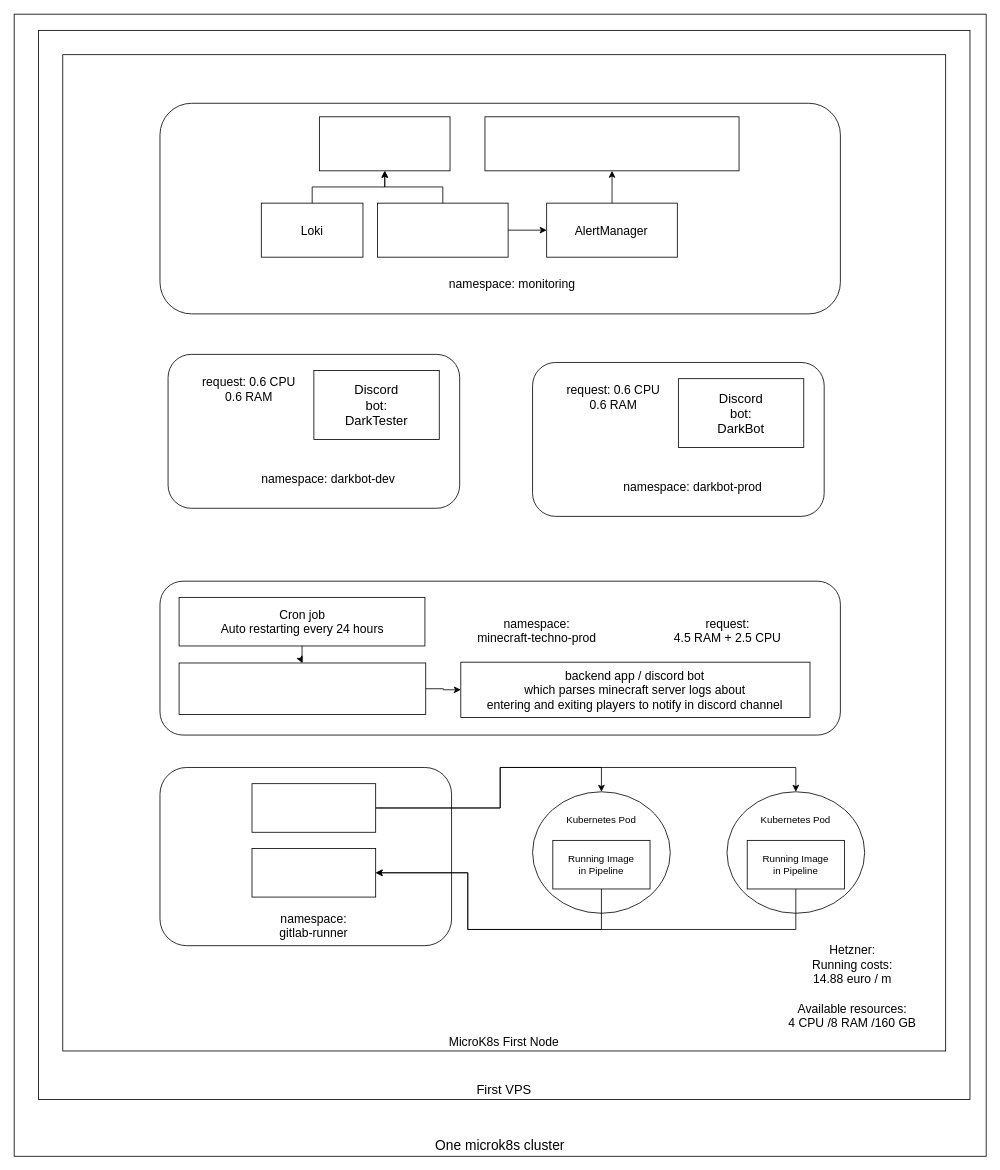
Some shapes in this 1000 by 1170 pixel diagram are drawn without their labels. The shapes that lost their labels are listed below. From the top down, each one's box as (x1, y1, x2, y2) in pixels, then its label:
(319, 116, 450, 171): Grafana
(484, 116, 739, 171): Backend API that is able to sent alerts to Discord
(377, 202, 508, 257): Prometheus
(178, 662, 426, 715): Minecraft server
(251, 783, 376, 832): self-hosted ci runner
(251, 848, 376, 897): dind
